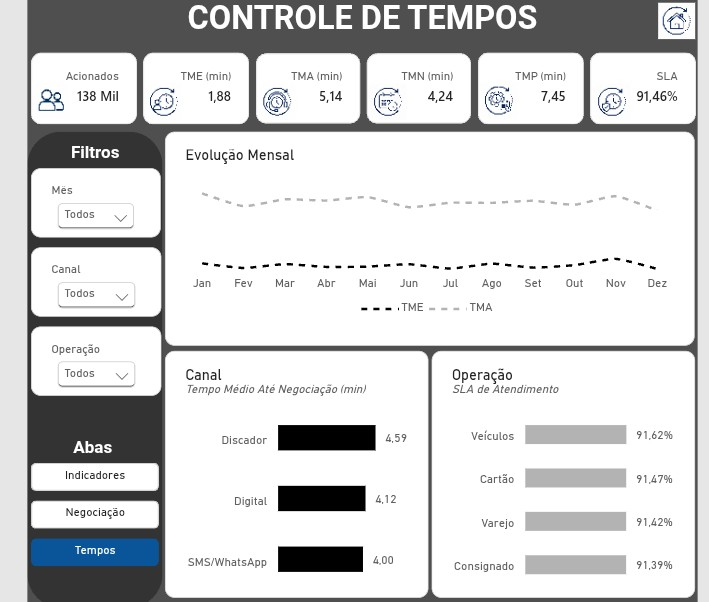

What the dashboard file says about the page in this screenshot:
{"tool":"powerbi","page":{"name":"Tempos","canvas":[550,500],"ordinal":3},"visuals":[{"type":"shape","box":[0,109,111,391],"z":0},{"type":"textbox","box":[0,0,550,46],"z":1000},{"type":"cardVisual","fields":{"Data":["Metricas.Tempos Acionados"]},"box":[3,44,87,59],"z":1000,"group":"g1"},{"type":"lineChart","title":"Evolução Mensal","fields":{"Y":["Metricas.TME","Metricas.TMA"],"Category":["base_tempos_2025.Mes Abreviado"]},"box":[113,109,435,176],"z":2000},{"type":"cardVisual","fields":{"Data":["Metricas.TME"]},"box":[94.8,44,87,59],"z":3000,"group":"g2"},{"type":"pageNavigator","box":[3,381,105,87],"z":3000},{"type":"cardVisual","fields":{"Data":["Metricas.TMP"]},"box":[370.2,44,87,59],"z":4000,"group":"g5"},{"type":"clusteredBarChart","title":"Canal","fields":{"Category":["base_tempos_2025.Canal"],"Y":["Metricas.TMN"]},"box":[113,289,216,203],"z":4000},{"type":"cardVisual","fields":{"Data":["Metricas.SLA"]},"box":[462,44,87,59],"z":5000,"group":"g4"},{"type":"clusteredBarChart","title":"Operação","fields":{"Category":["base_tempos_2025.Operacao"],"Y":["Metricas.SLA"]},"box":[332,289,216,203],"z":5000},{"type":"textbox","box":[0,358,107,20],"z":6000},{"type":"slicer","title":"Mês","fields":{"Values":["base_tempos_2025.Mes Abreviado"]},"box":[2.8,139,106,57],"z":7000},{"type":"slicer","title":"Canal","fields":{"Values":["base_tempos_2025.Canal"]},"box":[3,204,107,57],"z":8000},{"type":"slicer","title":"Operação","fields":{"Values":["base_tempos_2025.Operacao"]},"box":[3,269,107,57],"z":9000},{"type":"image","box":[4,66,30,35],"z":10000,"group":"g1"},{"type":"textbox","box":[7,116,97,23],"z":10000},{"type":"group","id":"g1","title":"Grupo 1","box":[3,44,87,59],"z":11000},{"type":"image","box":[372.2,66,30,35],"z":11000,"group":"g5"},{"type":"group","id":"g2","title":"Grupo 2","box":[94.8,44,87,59],"z":12000},{"type":"image","box":[465,67,30,35],"z":12000,"group":"g4"},{"type":"group","id":"g3","title":"Grupo 3","box":[186.6,44,87,59],"z":13000},{"type":"group","id":"g4","title":"Grupo 4","box":[462,44,87,59],"z":14000},{"type":"group","id":"g5","title":"Grupo 5","box":[370.2,44,87,59],"z":15000},{"type":"group","id":"g6","title":"Grupo 3","box":[278.4,44,87,59],"z":16000},{"type":"image","box":[518,2,30,32],"z":17000},{"type":"image","box":[96.8,67,30,35],"z":18000,"group":"g2"},{"type":"cardVisual","fields":{"Data":["Metricas.TMA"]},"box":[186.6,44,87,59],"z":19000,"group":"g3"},{"type":"cardVisual","fields":{"Data":["Metricas.TMN"]},"box":[278.4,44,87,59],"z":19000,"group":"g6"},{"type":"image","box":[189.6,67,30,35],"z":20000,"group":"g3"},{"type":"image","box":[281.4,67,30,35],"z":20000,"group":"g6"}]}

Visuals, with their boxes on the page's 550x500 design canvas (x1, y1, x2, y2). These are canvas units, not pixel positions in the 709x602 screenshot, which may show the page scaled, cropped or inside an application window:
shape: bbox=(0, 109, 111, 500)
textbox: bbox=(0, 0, 550, 46)
cardVisual - Metricas.Tempos Acionados: bbox=(3, 44, 90, 103)
"Evolução Mensal" lineChart: bbox=(113, 109, 548, 285)
cardVisual - Metricas.TME: bbox=(95, 44, 182, 103)
pageNavigator: bbox=(3, 381, 108, 468)
cardVisual - Metricas.TMP: bbox=(370, 44, 457, 103)
"Canal" clusteredBarChart: bbox=(113, 289, 329, 492)
cardVisual - Metricas.SLA: bbox=(462, 44, 549, 103)
"Operação" clusteredBarChart: bbox=(332, 289, 548, 492)
textbox: bbox=(0, 358, 107, 378)
"Mês" slicer: bbox=(3, 139, 109, 196)
"Canal" slicer: bbox=(3, 204, 110, 261)
"Operação" slicer: bbox=(3, 269, 110, 326)
image: bbox=(4, 66, 34, 101)
textbox: bbox=(7, 116, 104, 139)
"Grupo 1" group: bbox=(3, 44, 90, 103)
image: bbox=(372, 66, 402, 101)
"Grupo 2" group: bbox=(95, 44, 182, 103)
image: bbox=(465, 67, 495, 102)
"Grupo 3" group: bbox=(187, 44, 274, 103)
"Grupo 4" group: bbox=(462, 44, 549, 103)
"Grupo 5" group: bbox=(370, 44, 457, 103)
"Grupo 3" group: bbox=(278, 44, 365, 103)
image: bbox=(518, 2, 548, 34)
image: bbox=(97, 67, 127, 102)
cardVisual - Metricas.TMA: bbox=(187, 44, 274, 103)
cardVisual - Metricas.TMN: bbox=(278, 44, 365, 103)
image: bbox=(190, 67, 220, 102)
image: bbox=(281, 67, 311, 102)
